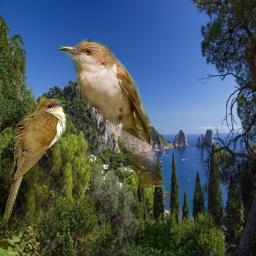Cuckoo: (57, 38, 163, 190), (2, 98, 69, 223)
